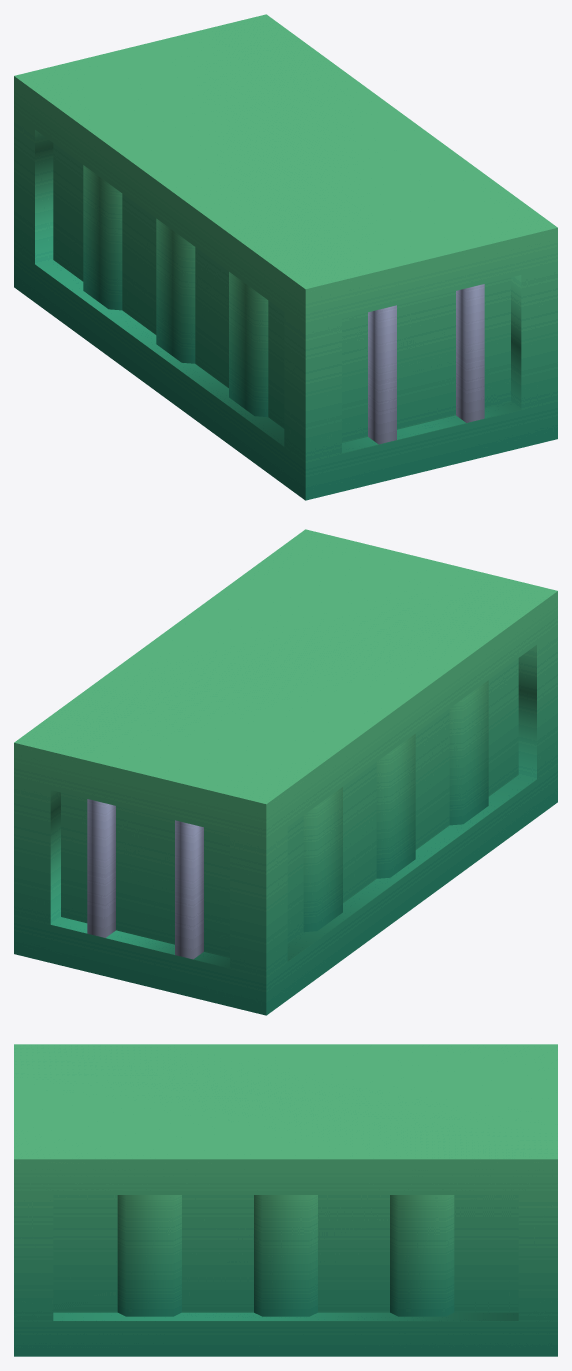
Rendered from cargo-container-c.glb.
3 renders of one model, top to bottom at view 1: azimuth 30°, elevation 25°; view 2: azimuth 150°, elevation 25°; view 3: azimuth 270°, elevation 25°, orthographic. The views are drawn at different scales.
Parts seen in each view (by area): view 1: cargo-container-c; view 2: cargo-container-c; view 3: cargo-container-c.
Part boxes in pixels (left/top/right/bottom): cargo-container-c: left=14, top=14, right=557, bottom=500; cargo-container-c: left=14, top=529, right=557, bottom=1015; cargo-container-c: left=14, top=1044, right=557, bottom=1356.
Bounding box in the file's own units: 4.69 × 3.75 × 9.38.
1 material, 1 textured.
